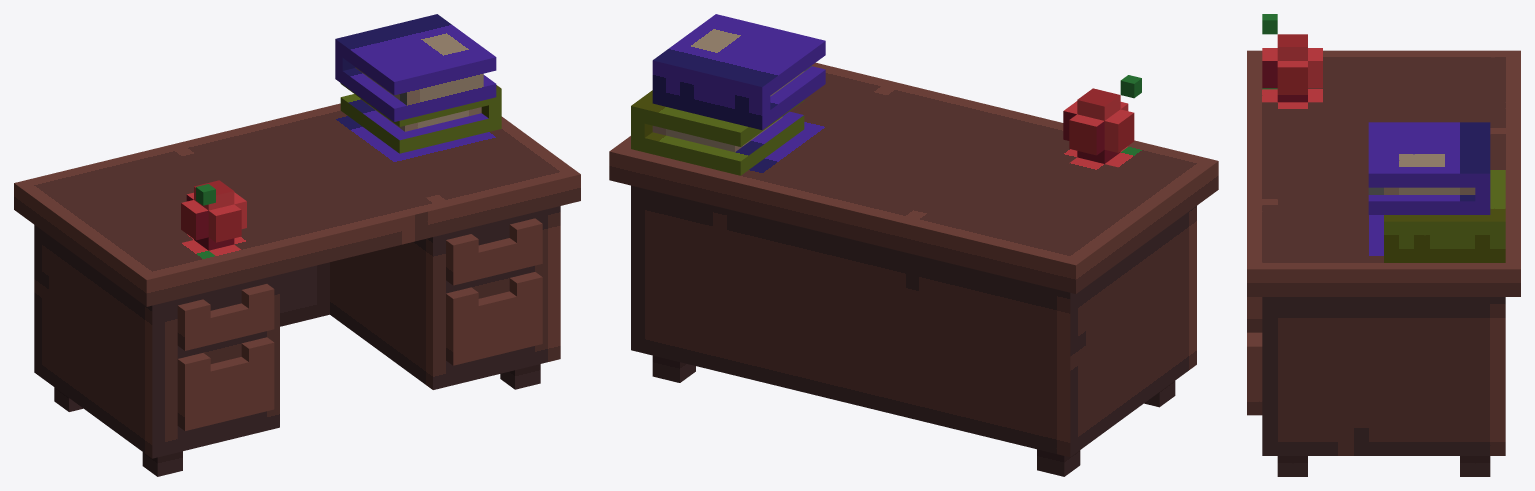
File: teacher_deskao.fezao.glb
3 views of the same model, side by side, from view 1: azimuth 30°, elevation 25°; view 2: azimuth 150°, elevation 25°; view 3: azimuth 270°, elevation 25° (orthographic). The views are drawn at different scales.
Parts seen in each view (by area): view 1: TEACHER_DESKAO; view 2: TEACHER_DESKAO; view 3: TEACHER_DESKAO.
Boxes of the visible parts, x1,y1,x2,y2 form: TEACHER_DESKAO: (14, 14, 580, 476); TEACHER_DESKAO: (609, 14, 1218, 476); TEACHER_DESKAO: (1247, 14, 1520, 476).
Bounding box in the file's own units: 2.12 × 1.38 × 1.12.
Materials: 1 (1 with a texture image).
